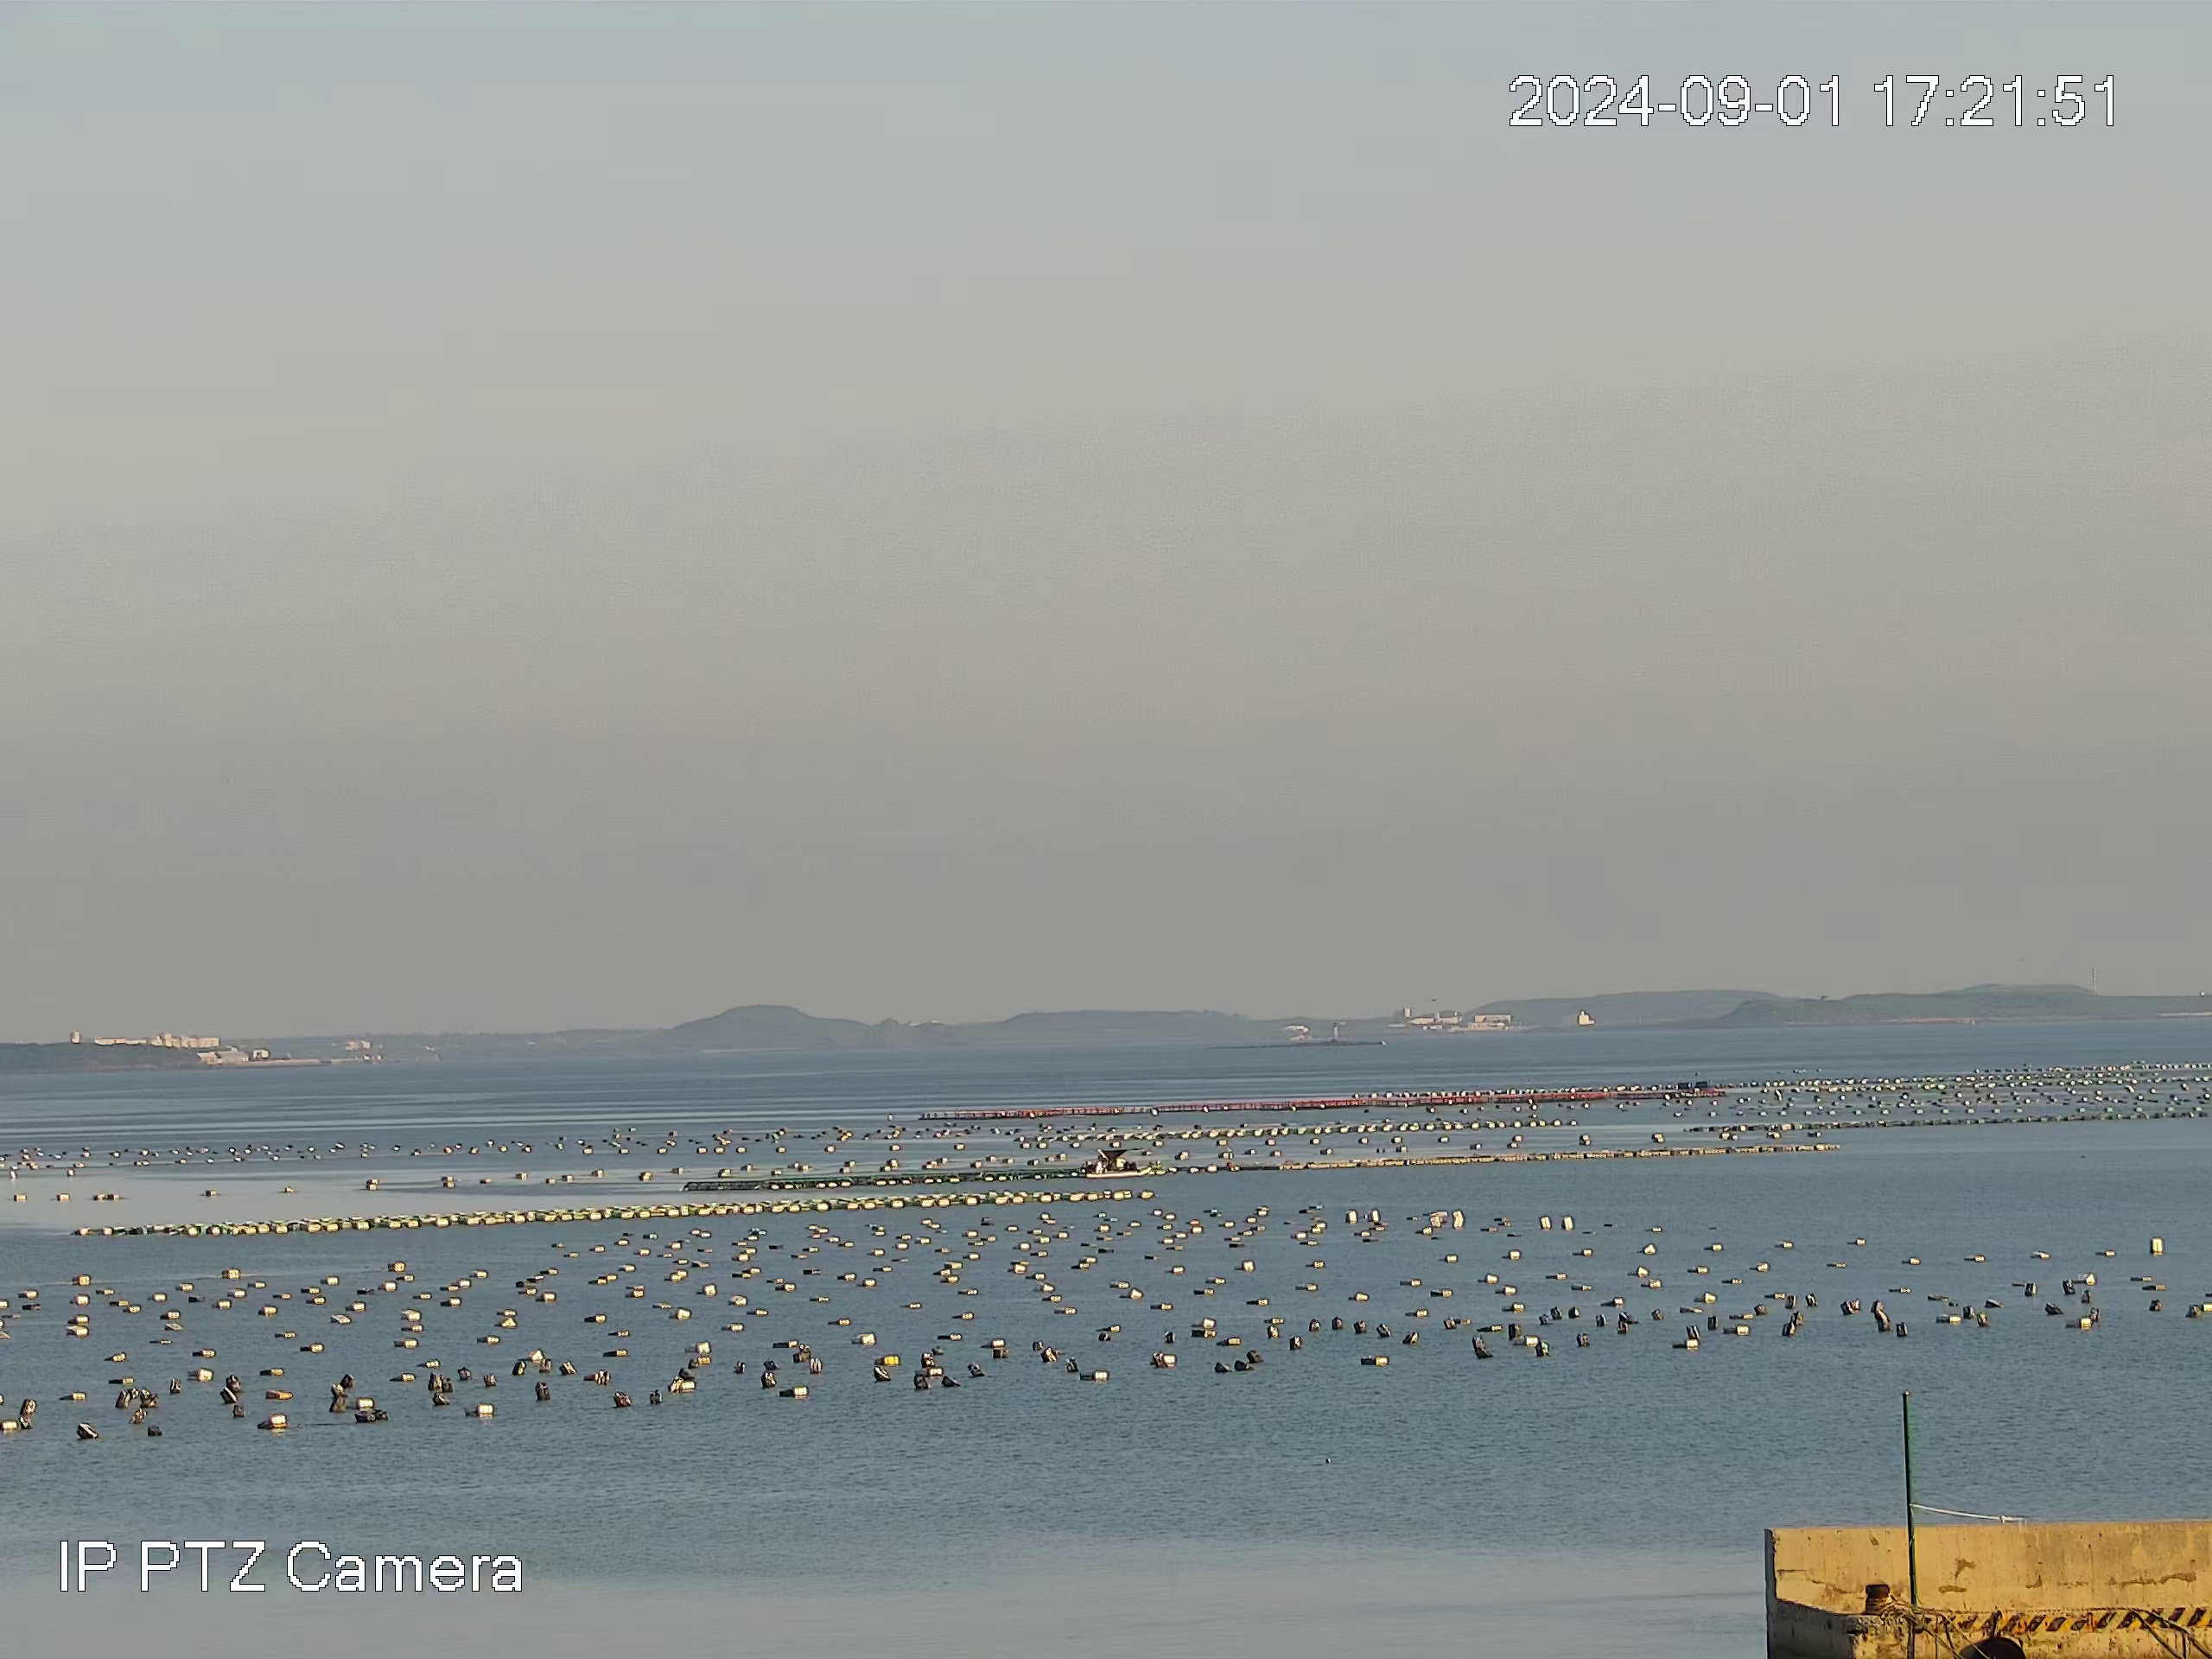boat: (1089, 1150, 1151, 1176)
